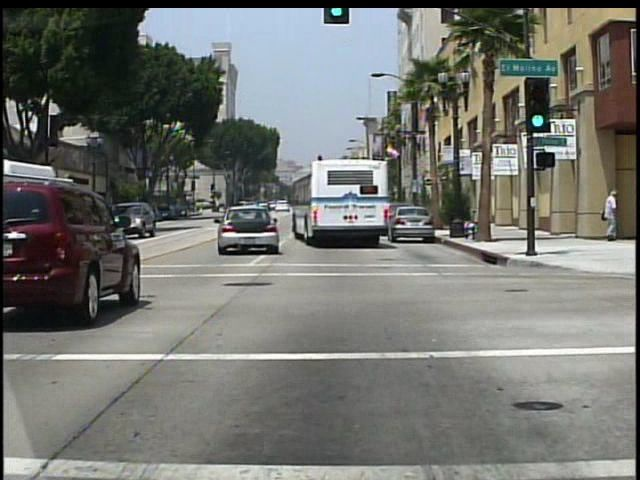person: (600, 190, 623, 244)
